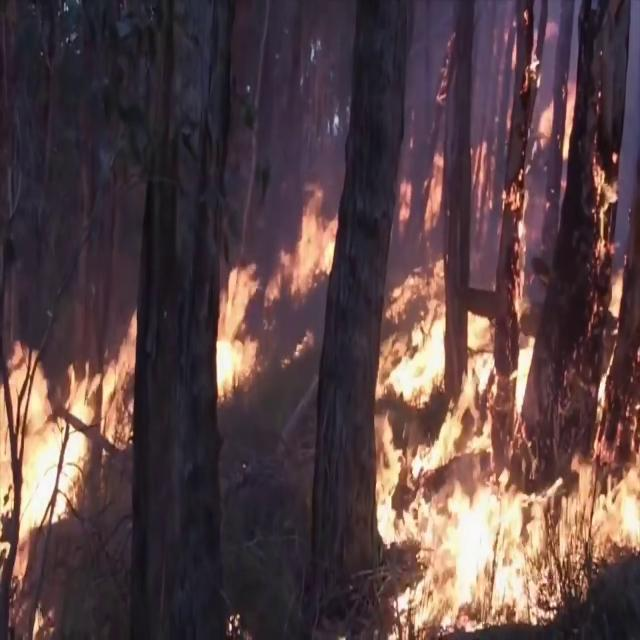Fire: (373, 23, 639, 632), (0, 298, 133, 592), (213, 180, 335, 400)
